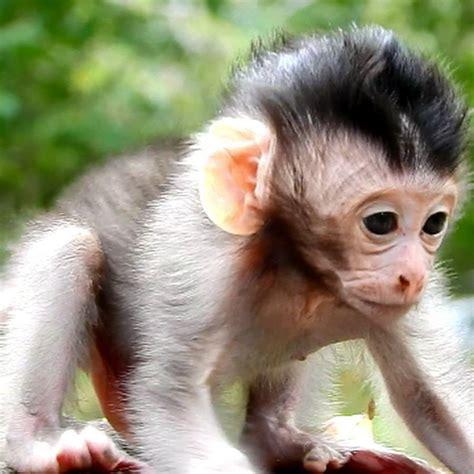monkey: (5, 34, 473, 474)
